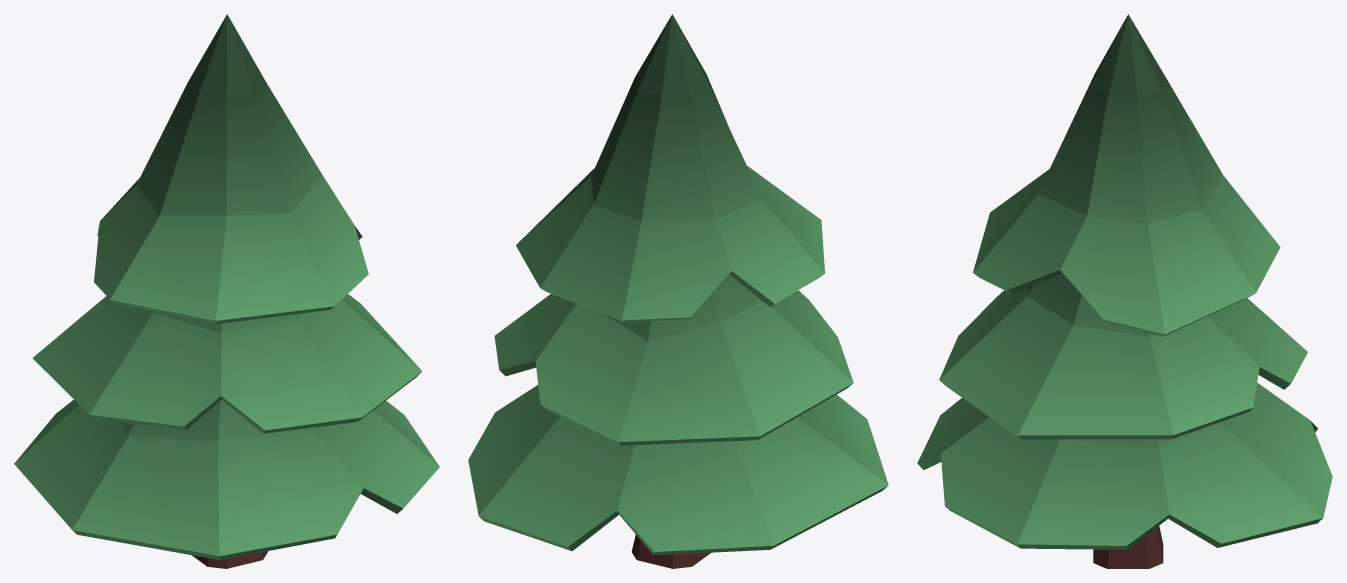
Rendered from DarkPine1.fbx.
3 renders of one model, left to right at view 1: azimuth 30°, elevation 25°; view 2: azimuth 150°, elevation 25°; view 3: azimuth 270°, elevation 25°, orthographic.
Visible parts, largest first — view 1: DarkPine1; view 2: DarkPine1; view 3: DarkPine1.
Boxes of the visible parts, x1,y1,x2,y2 form: DarkPine1: (14,14,439,568); DarkPine1: (468,14,888,568); DarkPine1: (917,14,1332,568).
Bounding box in the file's own units: 432 × 613 × 428.
